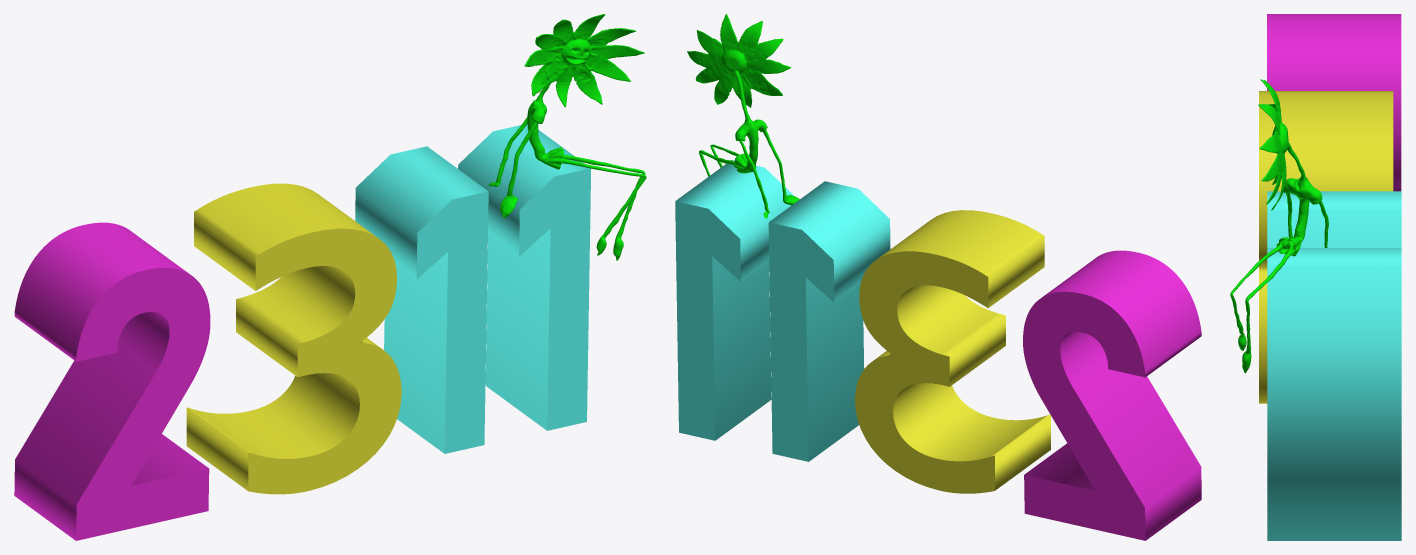
Rendered from 2311bannerstatic.glb.
3 renders of one model, left to right at view 1: azimuth 30°, elevation 25°; view 2: azimuth 150°, elevation 25°; view 3: azimuth 270°, elevation 25°, orthographic. The views are drawn at different scales.
Parts seen in each view (by area): view 1: Text, Text.002, Text.001, Mesh_0.001; view 2: Text, Text.002, Text.001, Mesh_0.001; view 3: Text, Text.001, Text.002, Mesh_0.001.
Part boxes in pixels (left/top/right/bottom): Text: left=355, top=124, right=591, bottom=453; Text.002: left=14, top=222, right=210, bottom=540; Text.001: left=186, top=183, right=401, bottom=494; Mesh_0.001: left=488, top=14, right=646, bottom=260; Text: left=675, top=160, right=890, bottom=461; Text.002: left=1023, top=250, right=1201, bottom=540; Text.001: left=855, top=210, right=1050, bottom=493; Mesh_0.001: left=687, top=14, right=799, bottom=218; Text: left=1267, top=191, right=1401, bottom=540; Text.001: left=1259, top=91, right=1393, bottom=403; Text.002: left=1267, top=14, right=1401, bottom=191; Mesh_0.001: left=1230, top=79, right=1328, bottom=373.
Bounding box in the file's own units: 1.15 × 0.7959 × 0.2765.
